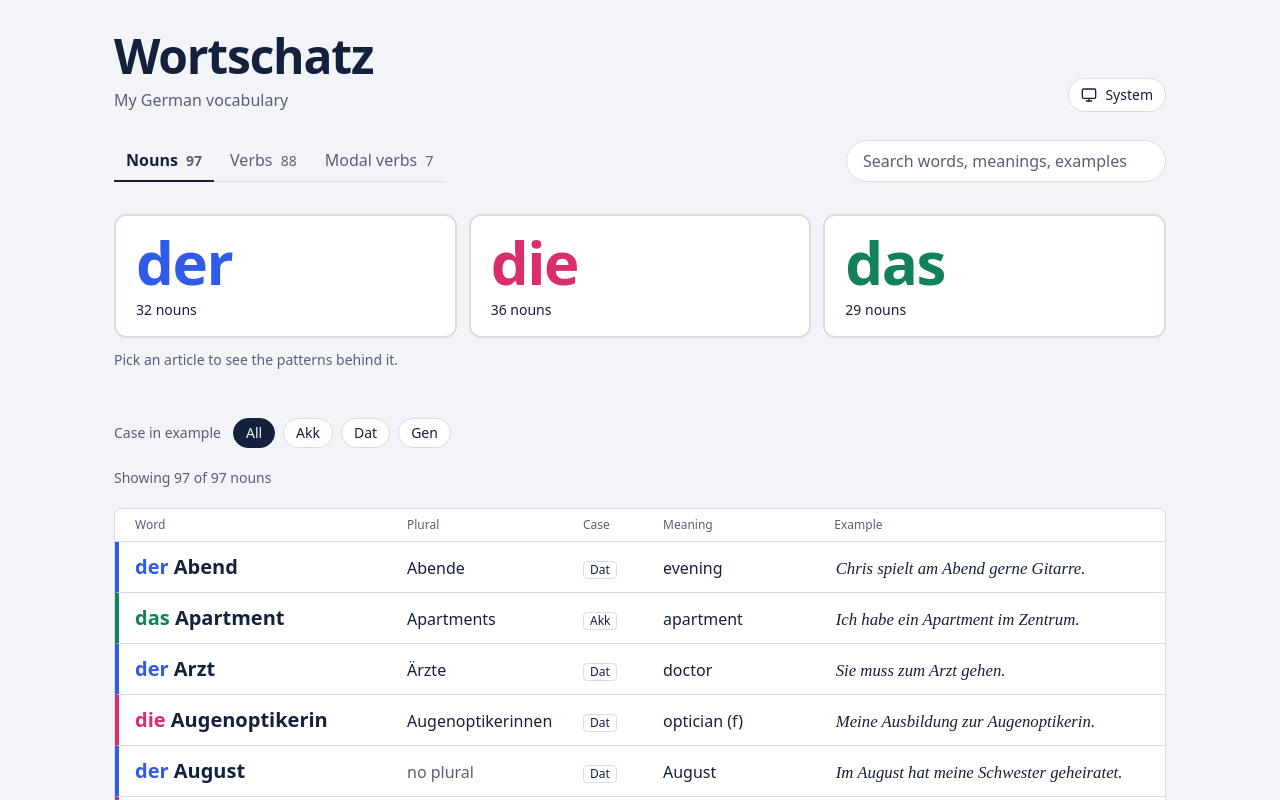
Test: VocabPage › finds words regardless of umlauts and shows an empty state with a way out
Step 1. Type "prufung" into the search field with placeholder "Search words, meanings, examples" → (1006, 161), box [846,140,1166,182]
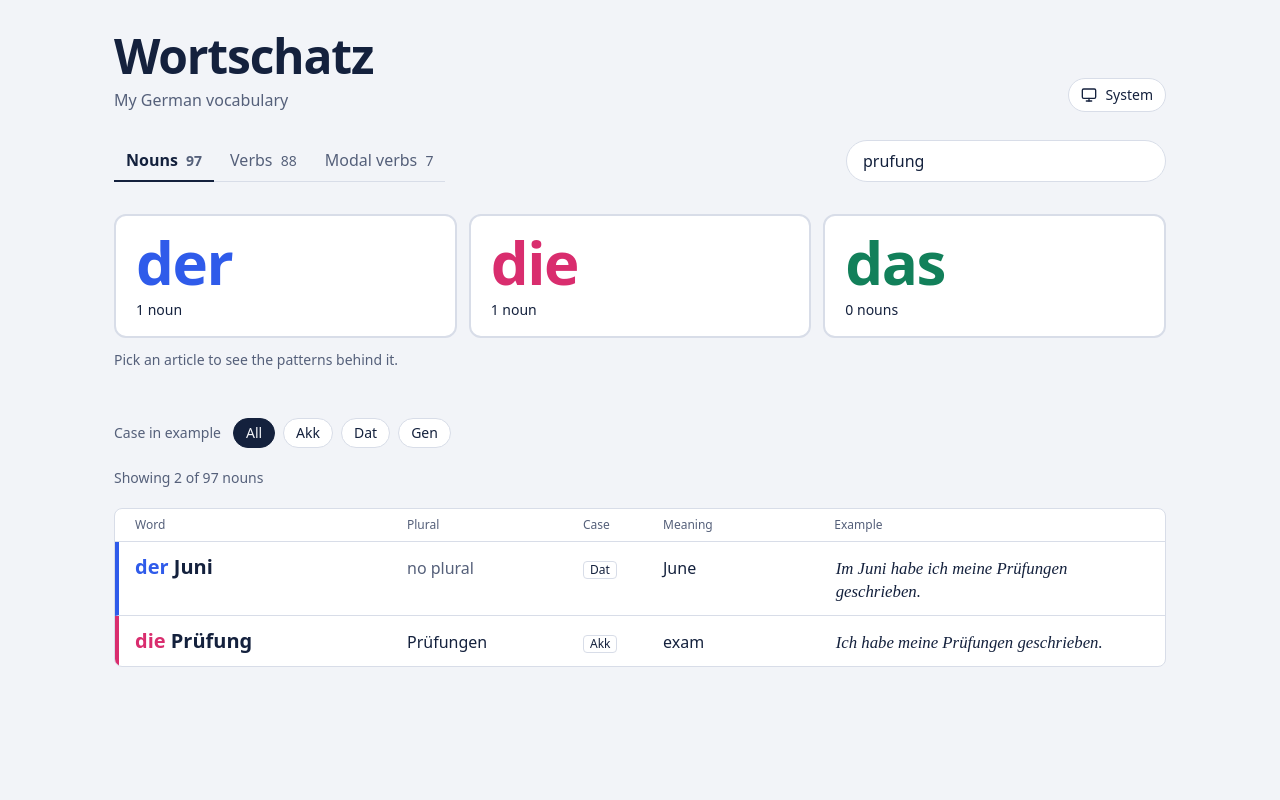
Expected: the text "Prüfung" is shown, [836,559,1067,601]
Step 2. Replace the text in the search field with "zzzz" → (1006, 161), box [846,140,1166,182]
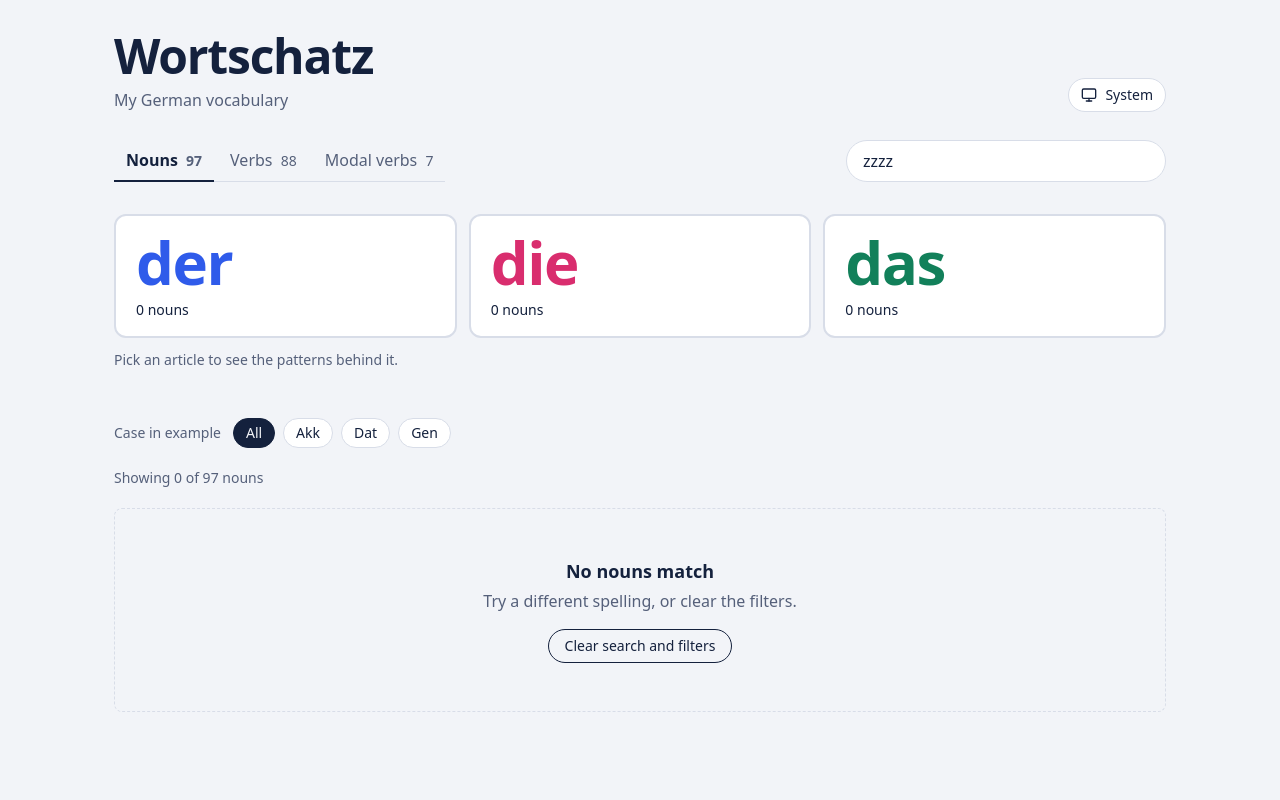
Expected: the text "No nouns match" is shown, [566,559,714,583]
Expected: the button "Clear search and filters" is shown
Step 3. Click the button "Clear search and filters" → (640, 646), box [548,629,732,663]
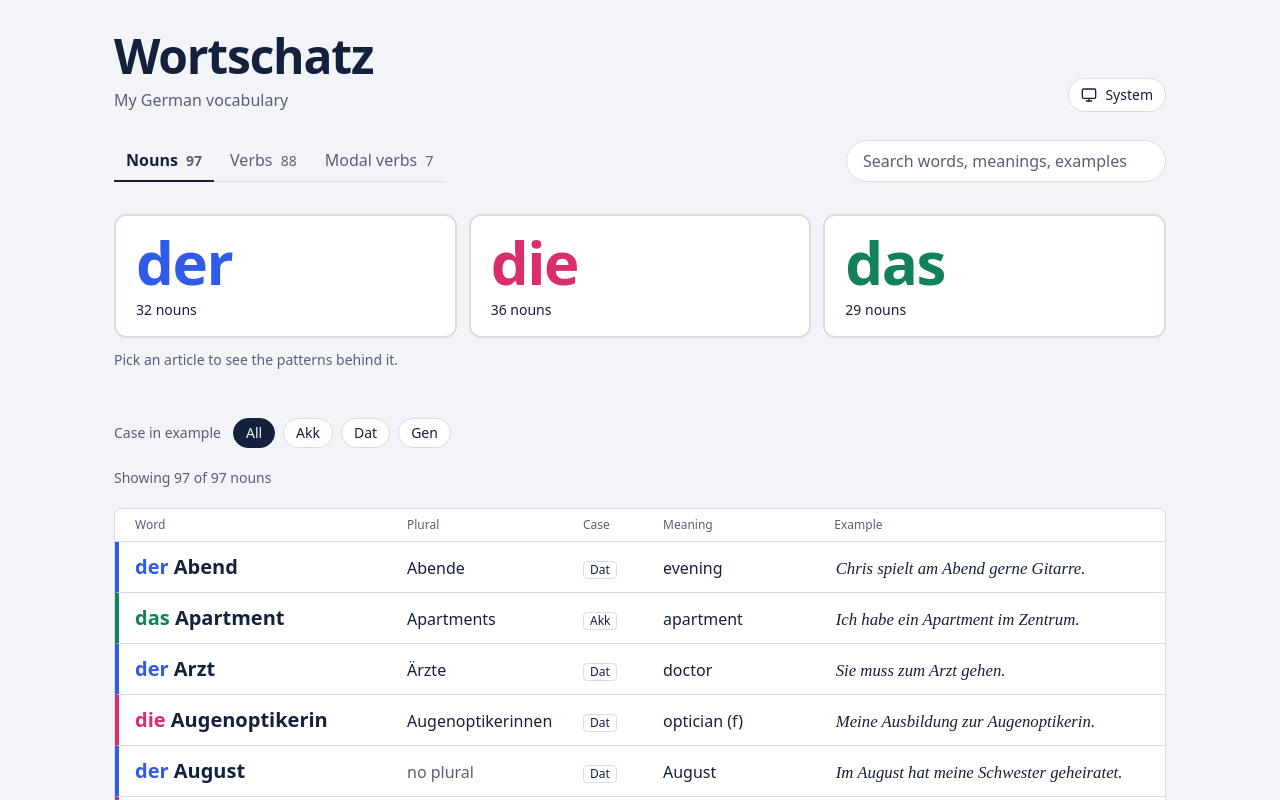
Expected: the text "Showing 97 of 97 nouns" is shown, [114,468,271,487]
